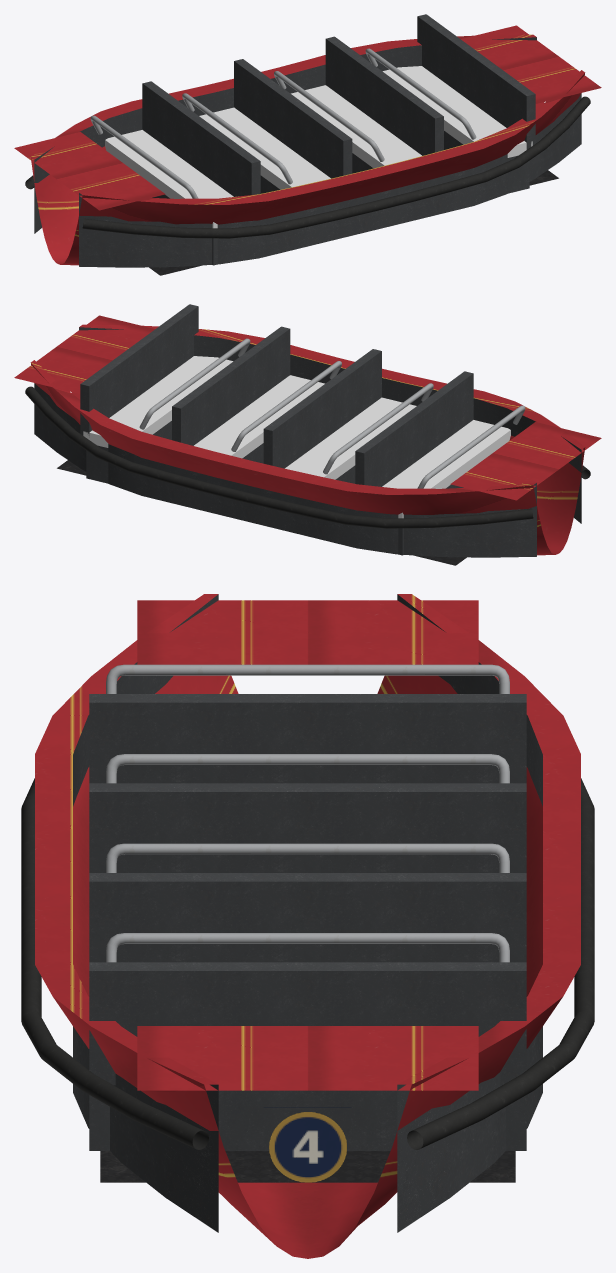
File: SM_QUE_Boat_Red.fbx
The picture shows the model from 3 angles, top to bottom: view 1: azimuth 30°, elevation 25°; view 2: azimuth 150°, elevation 25°; view 3: azimuth 270°, elevation 25°; orthographic projection. The views are drawn at different scales.
Visible parts, largest first — view 1: SM_QUE_Boat_Red_LOD0; view 2: SM_QUE_Boat_Red_LOD0; view 3: SM_QUE_Boat_Red_LOD0.
Part boxes in pixels (bbox=[...]): SM_QUE_Boat_Red_LOD0: bbox=[14, 14, 601, 275]; SM_QUE_Boat_Red_LOD0: bbox=[14, 304, 601, 565]; SM_QUE_Boat_Red_LOD0: bbox=[21, 594, 594, 1258].
Size of what is drawn, in the model's own units: 3.44 by 0.82 by 1.68.
